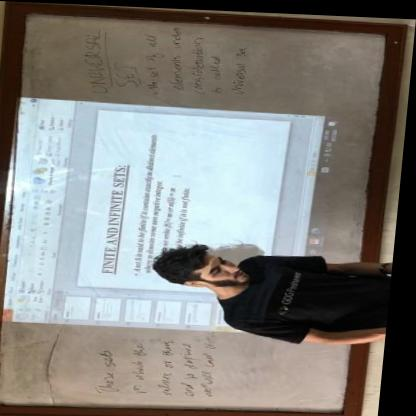Handwritten text: (74, 29, 115, 96), (137, 29, 168, 97), (163, 22, 193, 90), (95, 340, 131, 396), (156, 336, 186, 396), (130, 337, 159, 398), (226, 39, 254, 94), (182, 338, 207, 398), (188, 34, 210, 92), (205, 349, 229, 397), (205, 50, 229, 95), (112, 60, 142, 88)
Lecturer: (145, 232, 399, 347)
Whiteboard: (0, 9, 396, 416)
